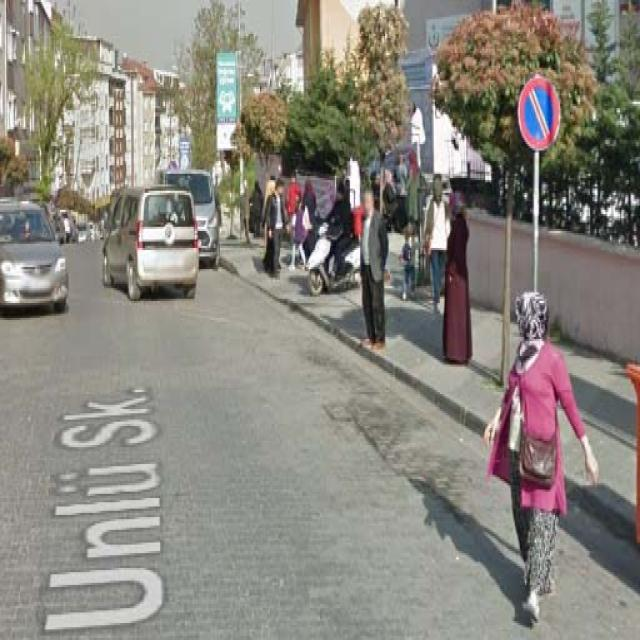parkyasak: (518, 78, 558, 150)
